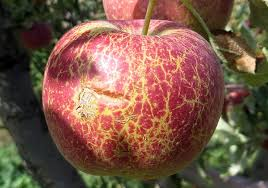damaged_apple: (46, 24, 233, 181)
